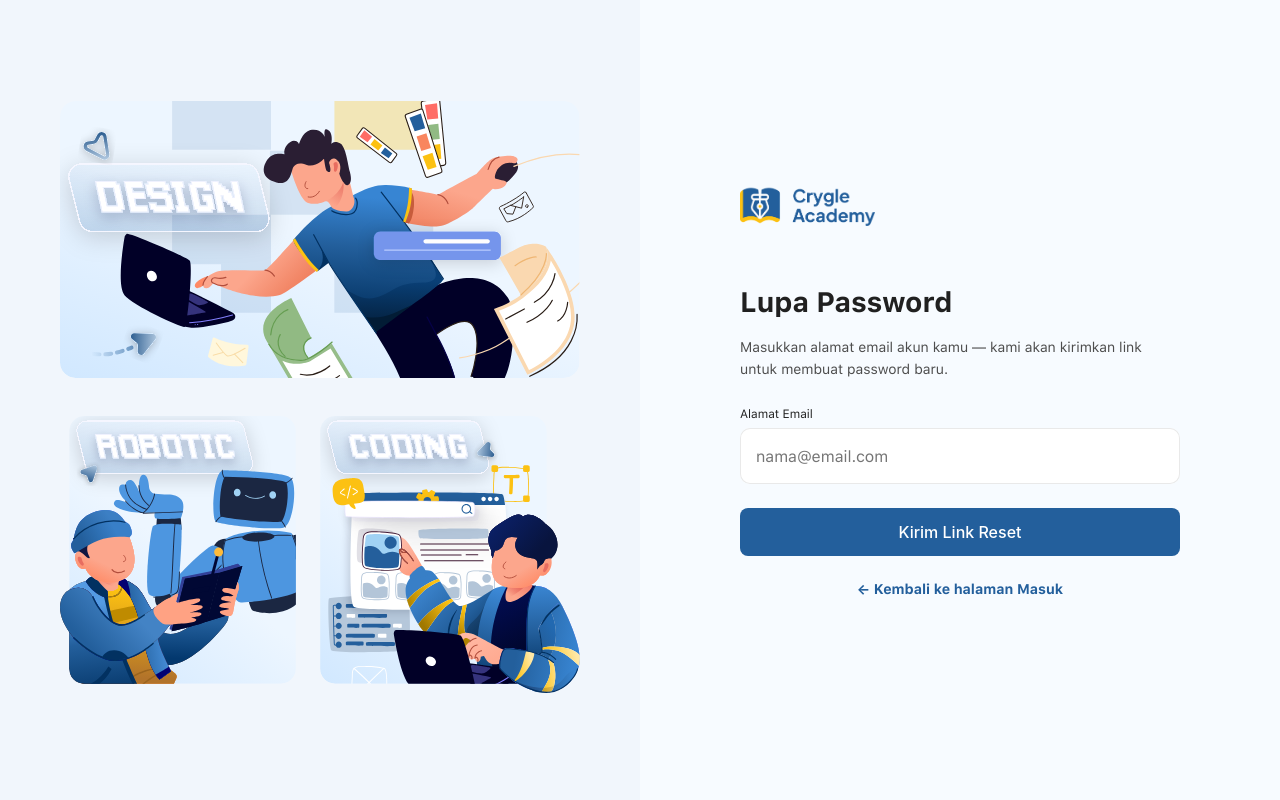
LupaPasswordPage › renders the email form, then shows a confirmation message after submit
The width and height of the screenshot is (1280, 800).
Expected: the heading "Lupa Password" is shown, x1=740 y1=285 x2=952 y2=319
Type "santri@crygleacademy.com" into the field labelled "Alamat Email" at (960, 456), box x1=740 y1=428 x2=1180 y2=484
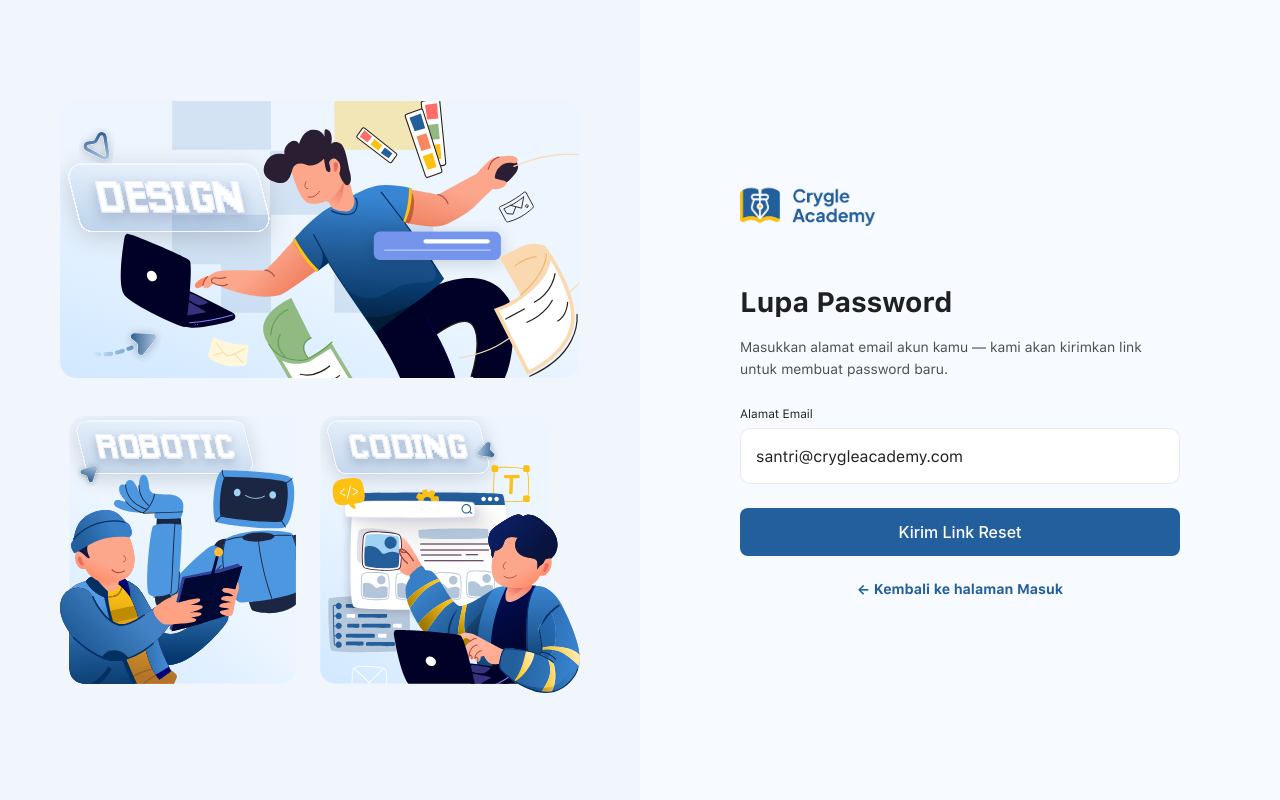
Click the button "Kirim Link Reset" at (960, 532), box x1=740 y1=508 x2=1180 y2=556
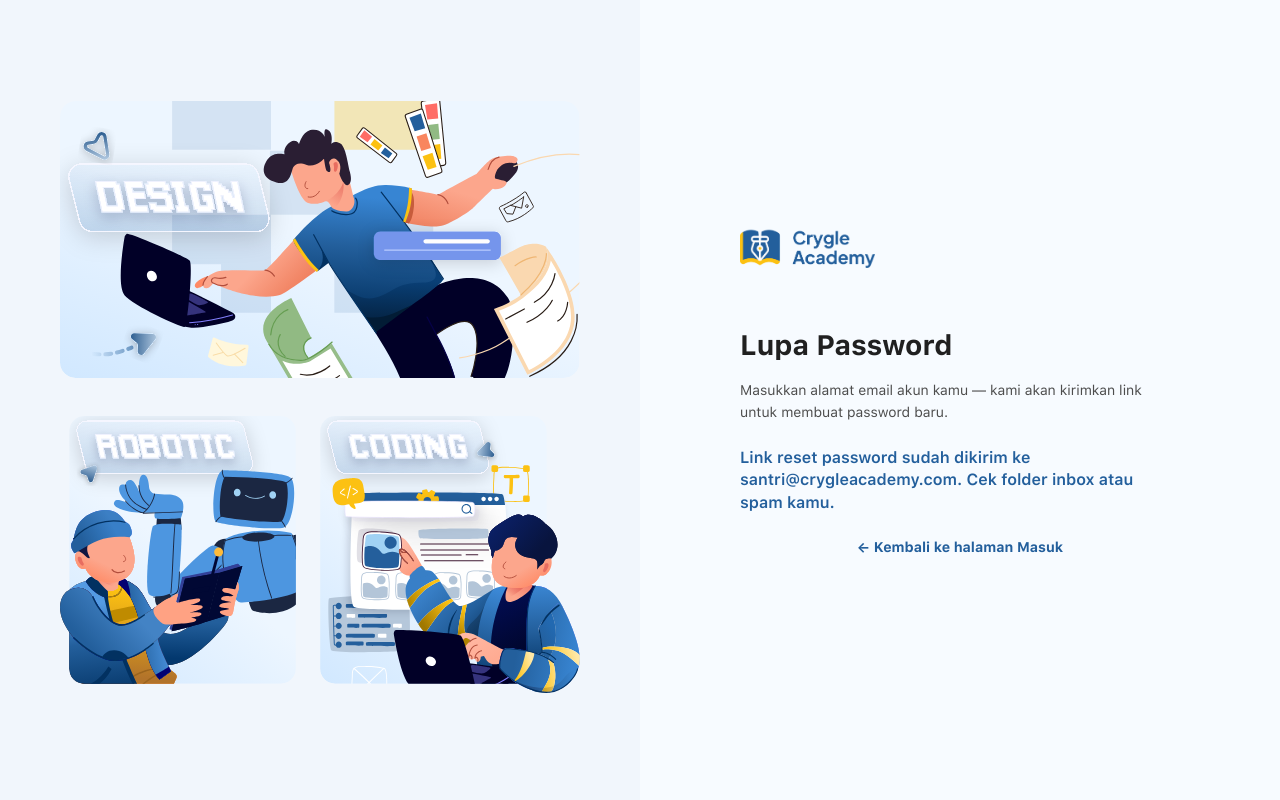
Result: the text "Link reset password sudah dikirim ke santri@crygleacademy.com" is shown at x1=740 y1=447 x2=1180 y2=514
